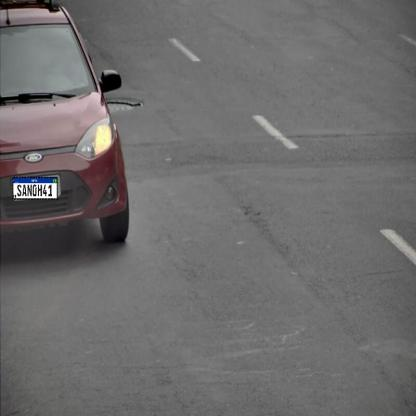PlacaM: (13, 176, 58, 200)
